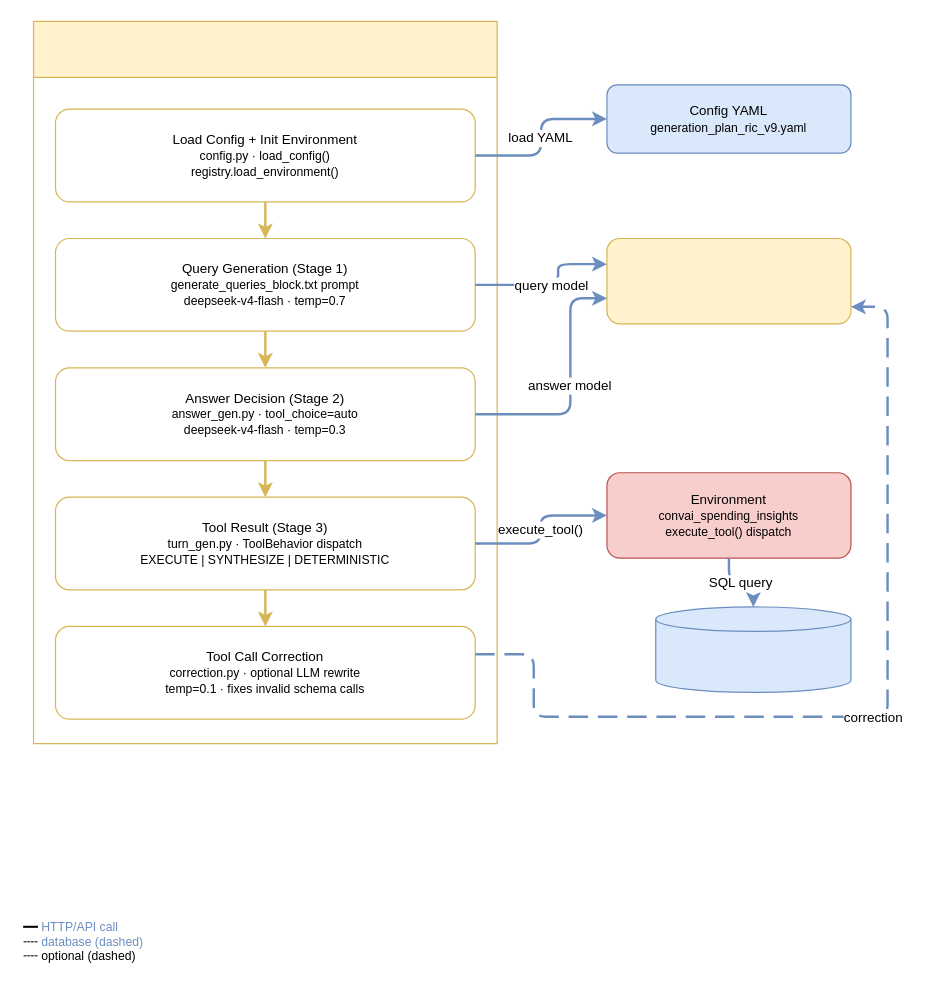
This 925x1007 diagram has some shape labels left out. The box of each missing label's shape, as (x1, y1, x2, y2) in pixels:
Generator run_generation.py → multi_turn_gen.py: (32, 20, 497, 744)
LLM (OpenRouter) deepseek/deepseek-v4-flash or local vLLM: (606, 237, 851, 324)
PostgreSQL concierge_eval DB persona + transactions: (655, 606, 851, 692)
